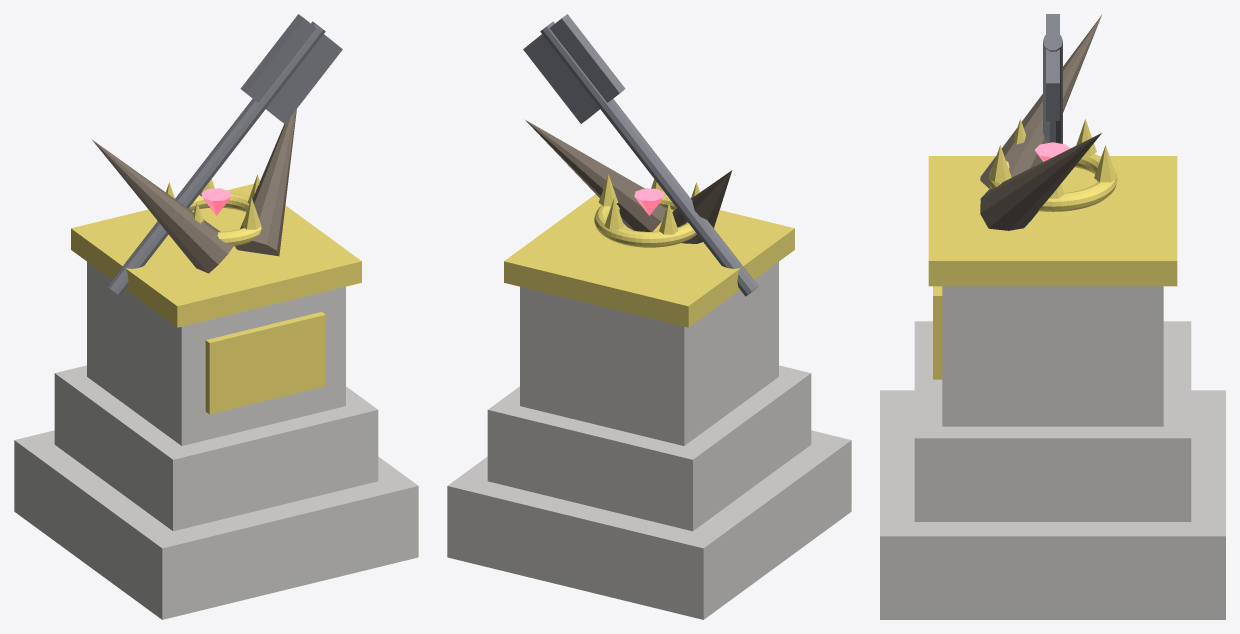
Rendered from boss_trophy.glb.
3 renders of one model, left to right at view 1: azimuth 30°, elevation 25°; view 2: azimuth 150°, elevation 25°; view 3: azimuth 270°, elevation 25°, orthographic. The views are drawn at different scales.
Parts seen in each view (by area): view 1: Cube, Cube.001, Cube.002, Cube.004, Cube.003, Cube.005, Cylinder, Cone, Cone.001, Torus; view 2: Cube, Cube.002, Cube.001, Cube.004, Cylinder, Cube.005, Cone.001, Torus, Cone; view 3: Cube, Cube.001, Cube.002, Cube.004, Cone.001, Cone, Torus, Cube.005, Cylinder, Cube.003, Cone.003, Cone.006.
Part boxes in pixels (<box>): Cube: <box>14,430,418,619</box>; Cube.001: <box>54,365,378,531</box>; Cube.002: <box>87,262,345,445</box>; Cube.004: <box>71,183,361,327</box>; Cube.003: <box>205,312,325,414</box>; Cube.005: <box>240,14,342,123</box>; Cylinder: <box>107,21,325,296</box>; Cone: <box>91,139,234,273</box>; Cone.001: <box>235,109,296,256</box>; Torus: <box>188,193,261,246</box>; Cube: <box>447,430,851,619</box>; Cube.002: <box>520,262,778,445</box>; Cube.001: <box>487,365,811,531</box>; Cube.004: <box>504,194,794,327</box>; Cylinder: <box>540,21,758,296</box>; Cube.005: <box>523,14,625,123</box>; Cone.001: <box>525,120,666,231</box>; Torus: <box>594,195,696,247</box>; Cone: <box>672,170,732,243</box>; Cube: <box>880,390,1225,619</box>; Cube.001: <box>914,321,1191,521</box>; Cube.002: <box>942,286,1163,426</box>; Cube.004: <box>928,156,1177,286</box>; Cone.001: <box>980,133,1101,230</box>; Cone: <box>980,15,1101,188</box>; Torus: <box>988,147,1117,211</box>; Cube.005: <box>1046,14,1059,120</box>; Cylinder: <box>1043,32,1062,143</box>; Cube.003: <box>933,286,942,379</box>; Cone.003: <box>1094,145,1116,182</box>; Cone.006: <box>989,145,1011,182</box>.
Size of the model in its own units: 0.75 by 1.39 by 0.75.
